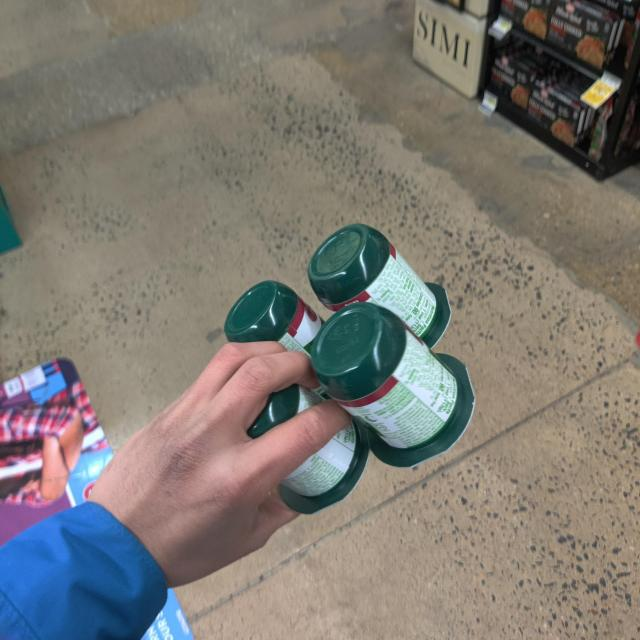Yogurt: (204, 218, 506, 525)
